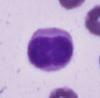M: (24, 27, 78, 71)
